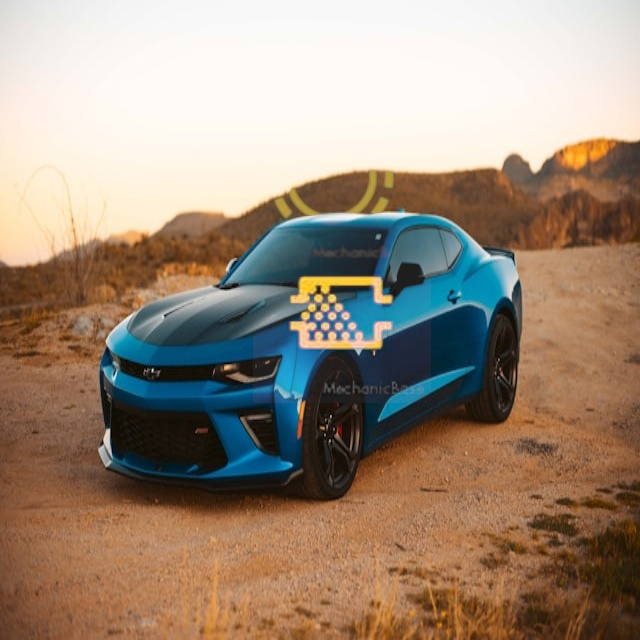symbol: (253, 225, 431, 403), (242, 89, 420, 267)
